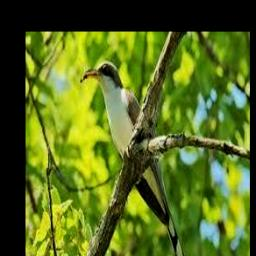Cuckoo: (83, 61, 190, 256)
